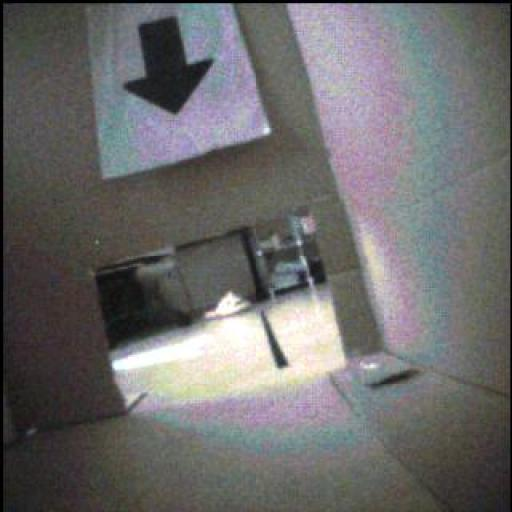arrow: (126, 19, 214, 115)
